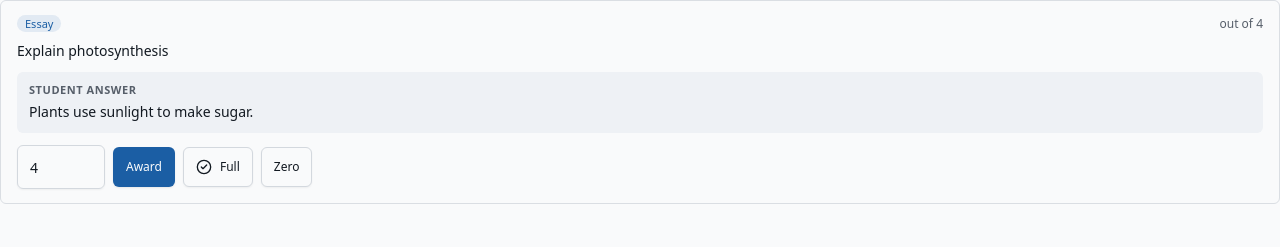
Test: AnswerCard › shows a fallback message when the error has none
Click the button "Zero" at point(287, 167), box [261, 147, 312, 187]
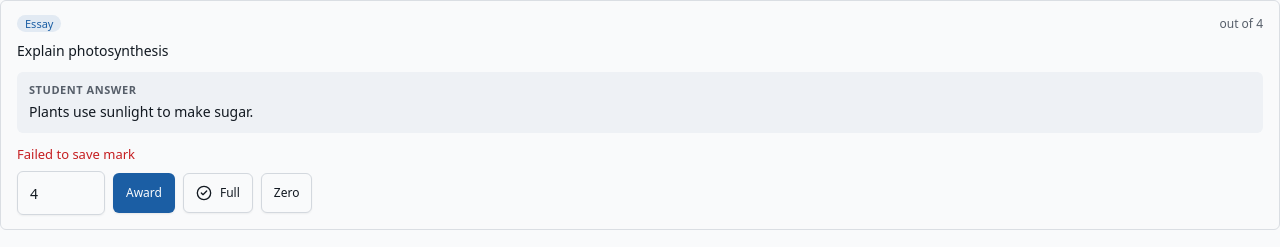
Check: the text "Failed to save mark" is shown, box [17, 145, 135, 163]
